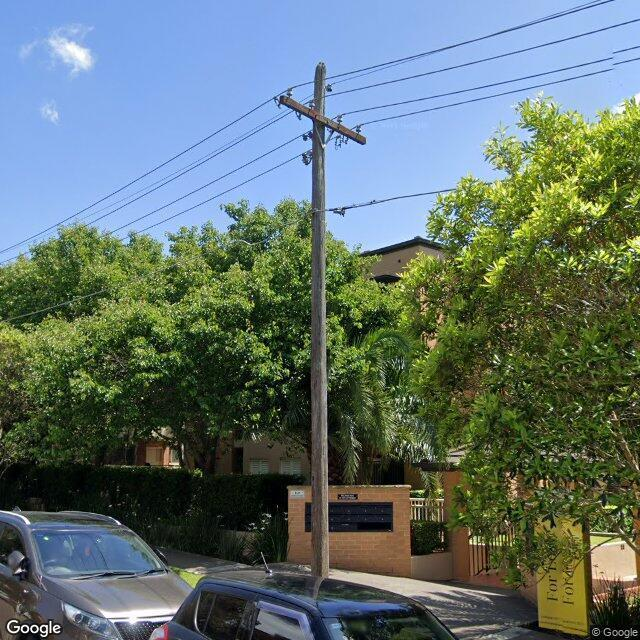crossarm: (277, 94, 367, 148)
timber-pole: (310, 61, 330, 575)
